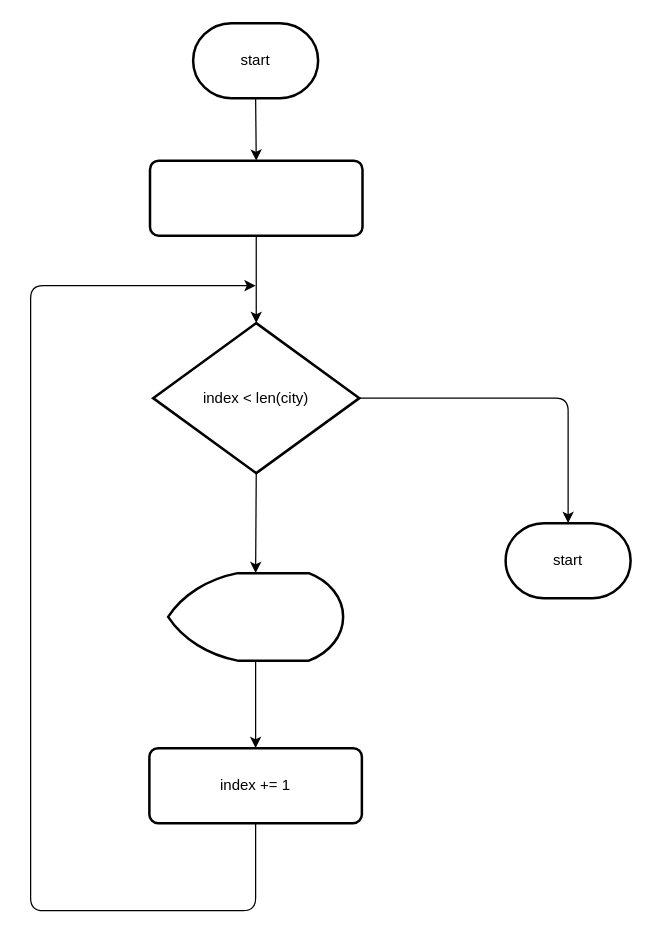
Some shapes in this 654 by 943 pixel diagram are drawn without their labels. Here are the shapes that lost their labels. From the top down, the box of each, then its label:
(148, 159, 363, 236): city = 'Boston' index = 0
(166, 571, 344, 661): (city[index])
